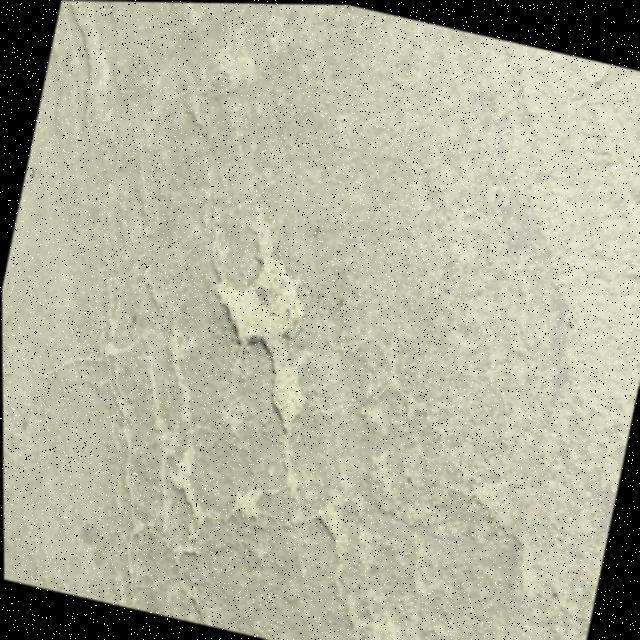pothole: (187, 207, 344, 436)
